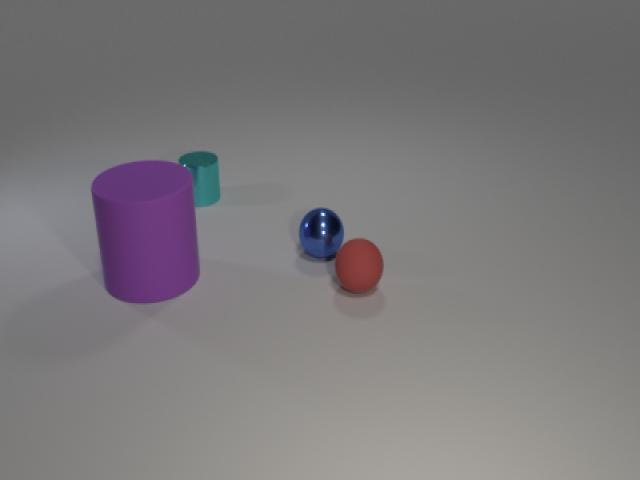cylinder: (88, 162, 201, 308), (176, 150, 224, 207)
round ball: (334, 232, 387, 299), (296, 197, 348, 262)
